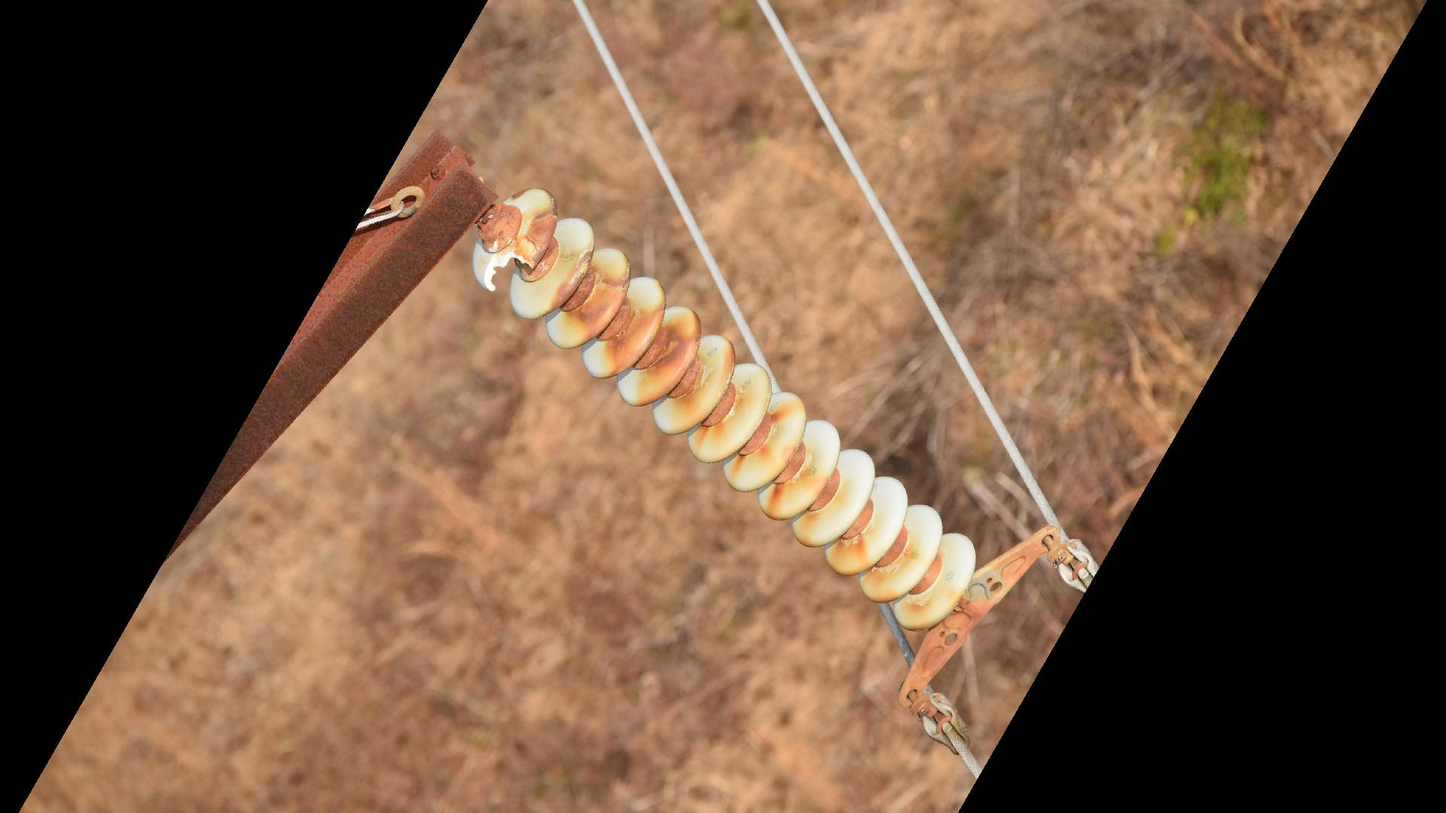insulator: (468, 182, 981, 636)
insulator_breakage: (478, 246, 537, 298)
